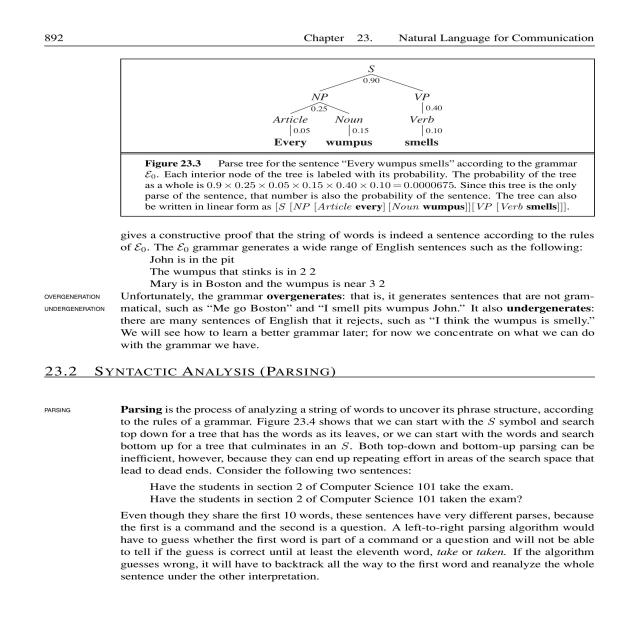diagram: (100, 53, 640, 217)
